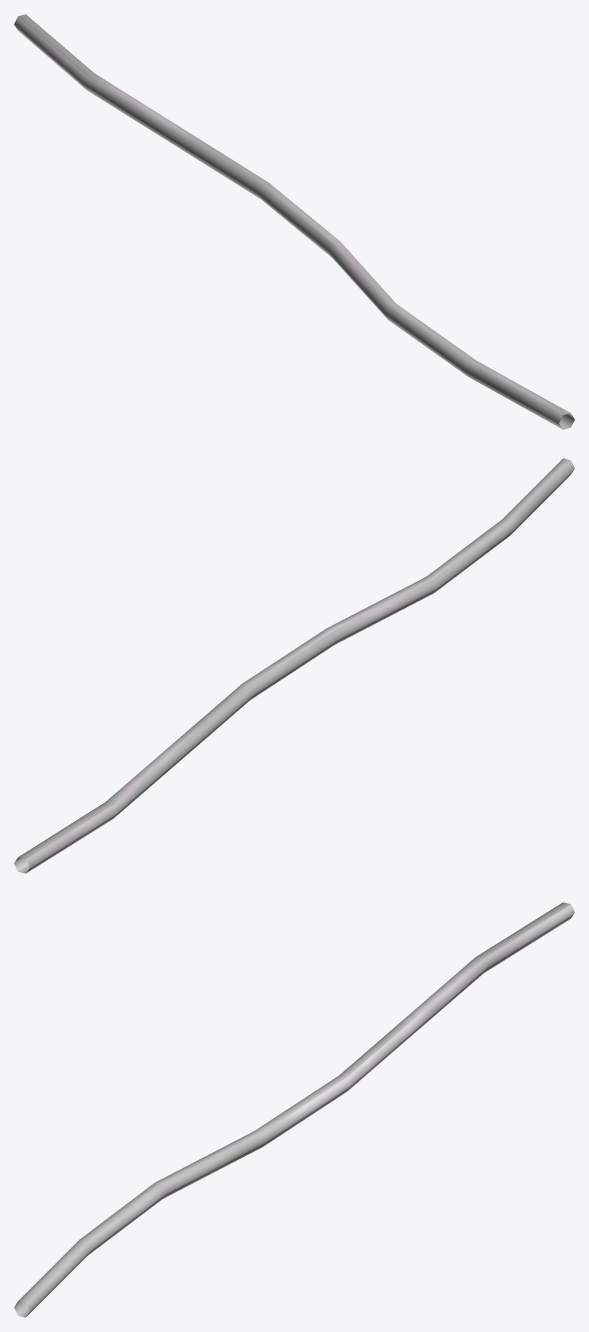
File: cable_small.dae
3 renders of one model, top to bottom at view 1: azimuth 30°, elevation 25°; view 2: azimuth 150°, elevation 25°; view 3: azimuth 330°, elevation 25°, orthographic.
Parts seen in each view (by area): view 1: Mesh; view 2: Mesh; view 3: Mesh.
Part boxes in pixels (x1=…): Mesh: x1=14, y1=14, x2=574, y2=429; Mesh: x1=14, y1=458, x2=574, y2=873; Mesh: x1=14, y1=902, x2=574, y2=1317.
Bounding box in the file's own units: 0.0469 × 0.0151 × 1.
